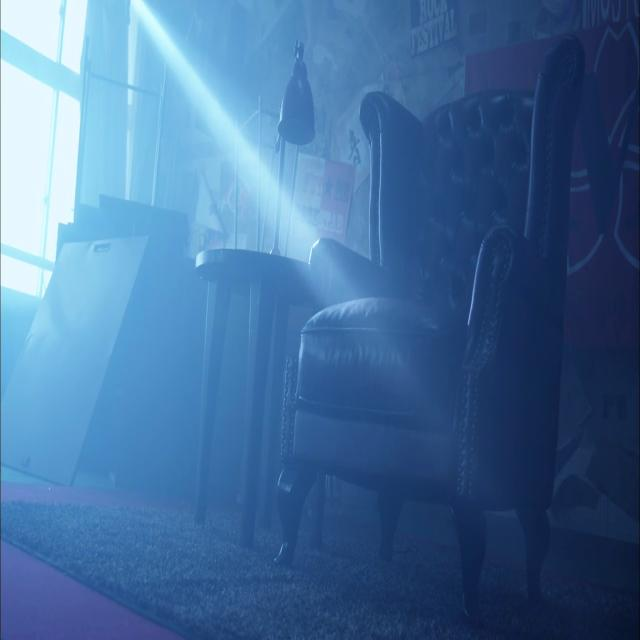Table: (194, 200, 334, 598)
chair: (290, 45, 594, 633)
